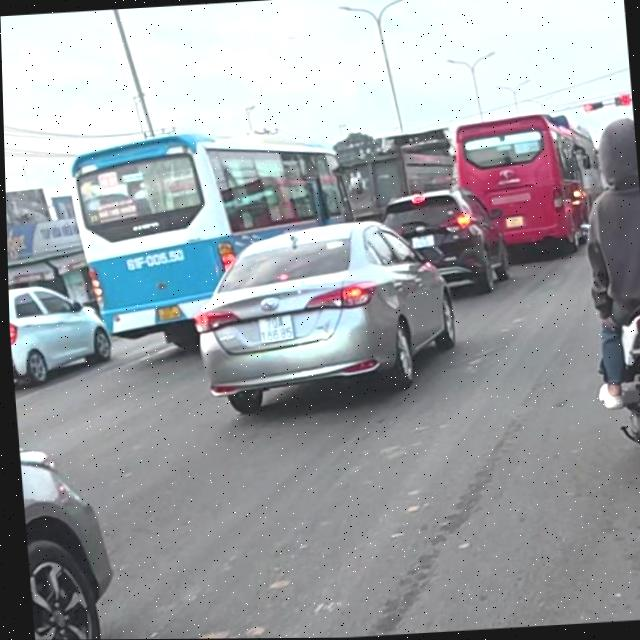car: (58, 118, 369, 347), (185, 215, 467, 419), (449, 113, 594, 259), (385, 184, 518, 299), (8, 270, 115, 388)
plate: (251, 310, 300, 347), (405, 228, 442, 254), (149, 300, 185, 325), (499, 208, 533, 233)
